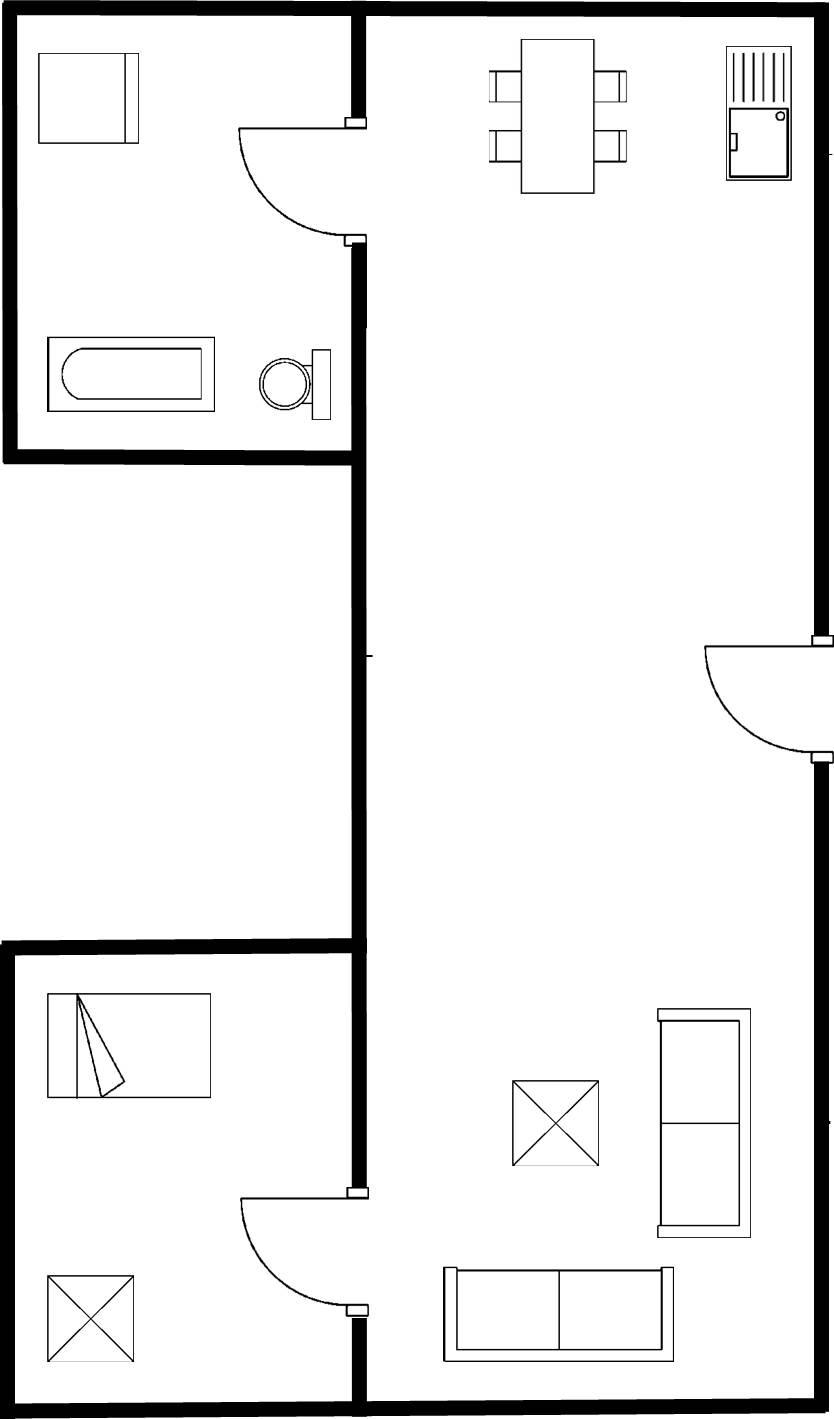bed: (38, 985, 219, 1106)
dining_table: (483, 30, 633, 202)
sink: (715, 35, 798, 188)
sofa: (645, 999, 756, 1244), (434, 1259, 681, 1366)
toilet: (249, 342, 338, 426)
tub: (40, 327, 223, 420)
